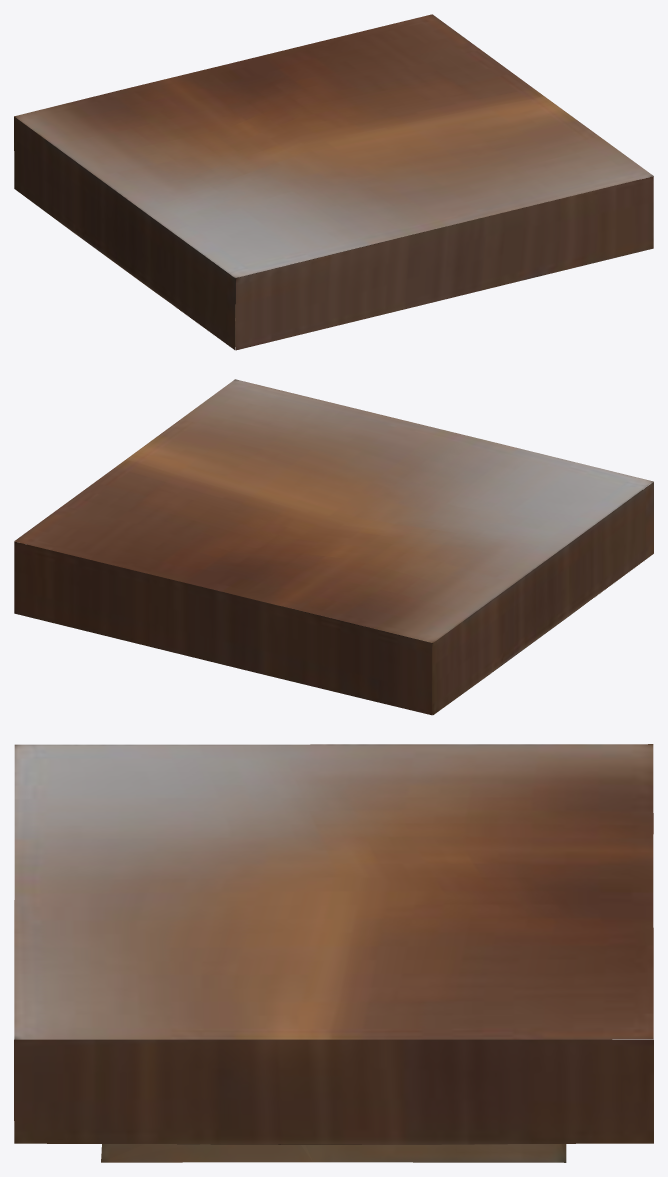
Rendered from j-table-marbre.glb.
3 renders of one model, top to bottom at view 1: azimuth 30°, elevation 25°; view 2: azimuth 150°, elevation 25°; view 3: azimuth 270°, elevation 25°, orthographic. The views are drawn at different scales.
Parts seen in each view (by area): view 1: geometry_0; view 2: geometry_0; view 3: geometry_0.
Boxes of the visible parts, x1,y1,x2,y2 form: geometry_0: (14, 14, 653, 350); geometry_0: (14, 379, 653, 715); geometry_0: (14, 744, 653, 1162).
Bounding box in the file's own units: 1 × 0.2292 × 0.9165.
Materials: 1 (1 with a texture image).
